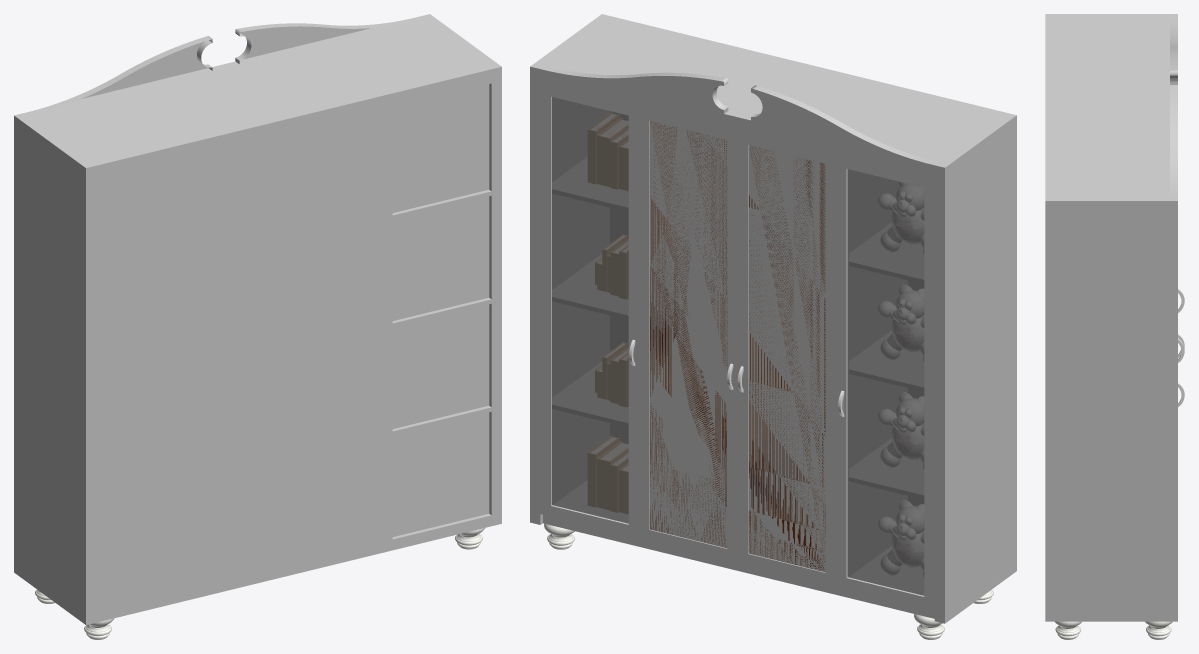
3 views of the same model, side by side, from view 1: azimuth 30°, elevation 25°; view 2: azimuth 150°, elevation 25°; view 3: azimuth 270°, elevation 25° (orthographic). The views are drawn at different scales.
Visible parts, largest first — view 1: mesh30_mesh30-geometry, mesh25_mesh25-geometry; view 2: mesh30_mesh30-geometry, mesh28_mesh28-geometry, mesh1_mesh1-geometry, mesh26_mesh26-geometry, mesh18_mesh18-geometry, mesh2_mesh2-geometry, mesh25_mesh25-geometry; view 3: mesh30_mesh30-geometry, mesh25_mesh25-geometry.
Part boxes in pixels (left/top/right/bottom): mesh30_mesh30-geometry: left=14, top=14, right=501, bottom=624; mesh25_mesh25-geometry: left=35, top=528, right=484, bottom=639; mesh30_mesh30-geometry: left=530, top=14, right=1016, bottom=623; mesh28_mesh28-geometry: left=588, top=112, right=628, bottom=513; mesh1_mesh1-geometry: left=893, top=182, right=923, bottom=577; mesh26_mesh26-geometry: left=595, top=234, right=628, bottom=406; mesh18_mesh18-geometry: left=891, top=209, right=923, bottom=567; mesh2_mesh2-geometry: left=878, top=193, right=900, bottom=575; mesh25_mesh25-geometry: left=544, top=523, right=993, bottom=639; mesh30_mesh30-geometry: left=1045, top=14, right=1177, bottom=621; mesh25_mesh25-geometry: left=1054, top=621, right=1172, bottom=639.
Size of the model in its own units: 0.6326 by 0.7484 by 0.1993.
